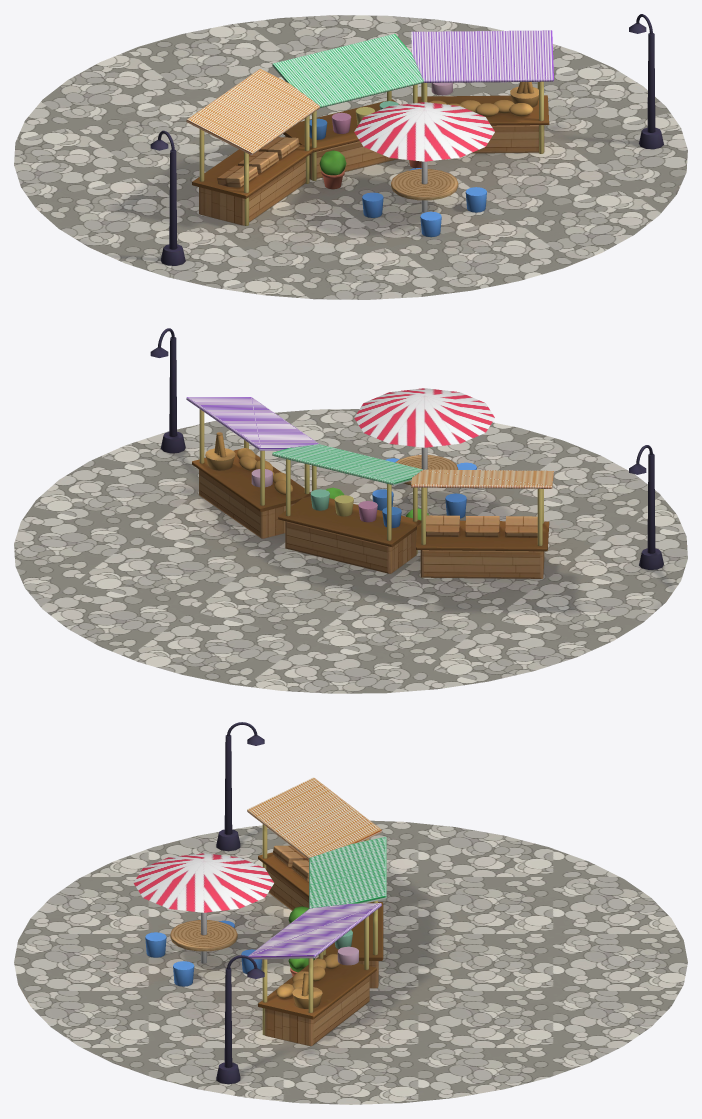
The model's file is market.glb.
3 views of the same model, one above another, from view 1: azimuth 30°, elevation 25°; view 2: azimuth 150°, elevation 25°; view 3: azimuth 270°, elevation 25° (orthographic).
Visible parts, largest first — view 1: Mesh_0; view 2: Mesh_0; view 3: Mesh_0.
Boxes of the visible parts, x1,y1,x2,y2 form: Mesh_0: (14,14,687,299); Mesh_0: (14,328,687,693); Mesh_0: (14,722,687,1104).
Size of the model in its own units: 22 by 4.5 by 22.
Materials: 1 (1 with a texture image).
